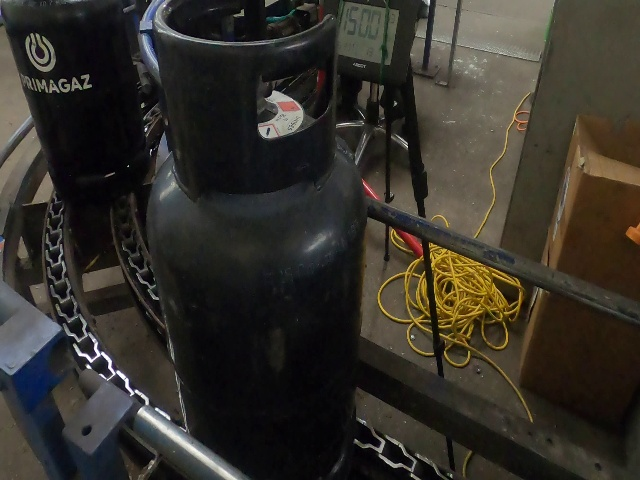gas_bottle: (0, 2, 633, 480)
